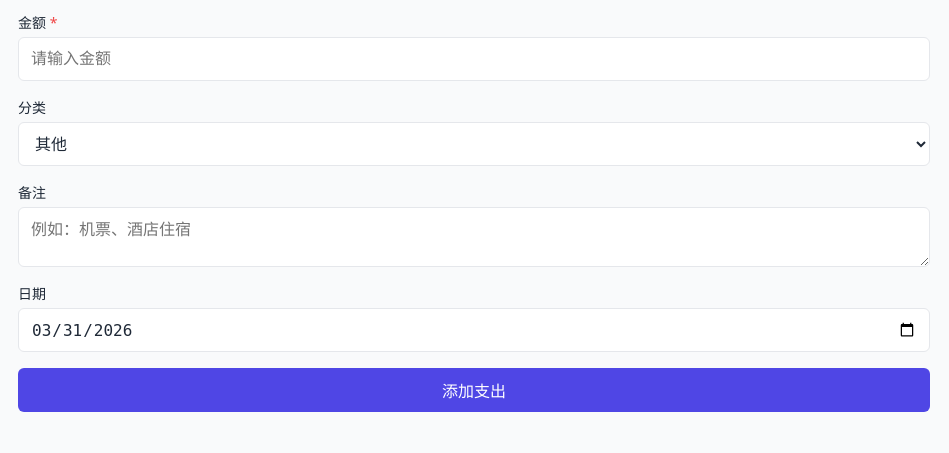
Test: ExpenseForm › 金额为非正数时显示验证错误
The image size is (949, 453).
In the number field labelled "金额": [474, 59] box [18,37,930,81], type "0"
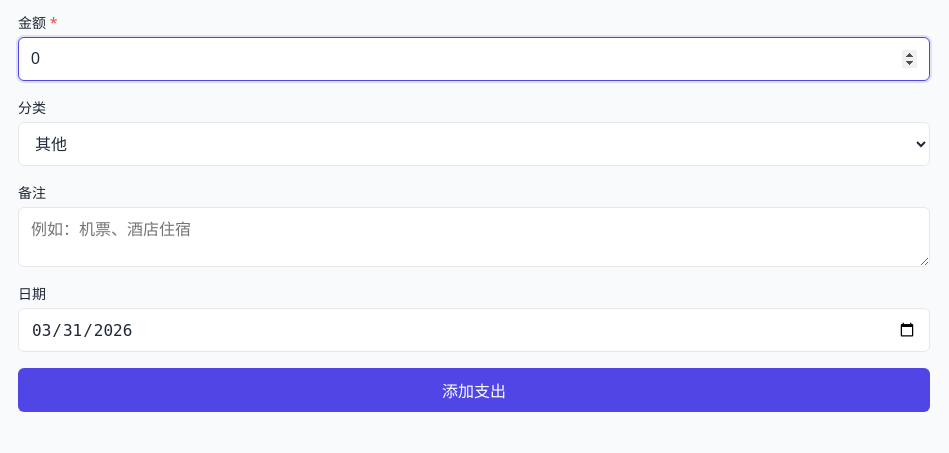
Click the button "添加支出": [474, 390] box [18,368,930,412]
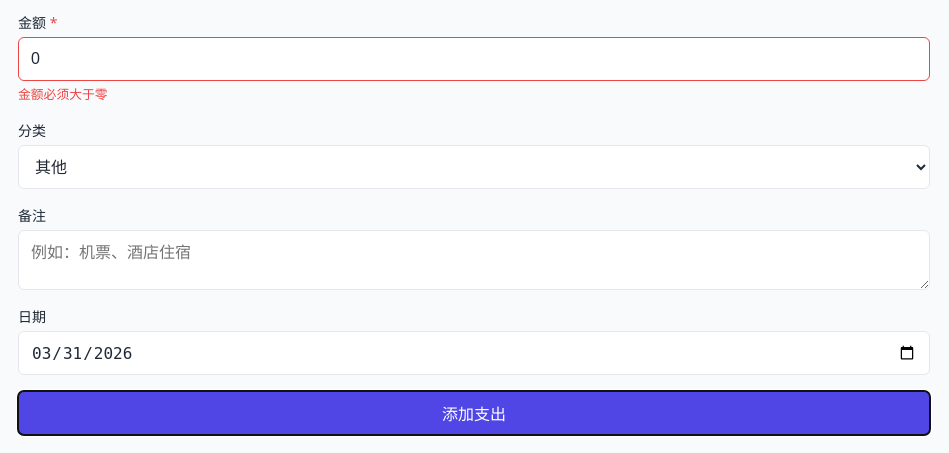
Check: the text "金额必须大于零" is shown, box [18,85,108,103]
